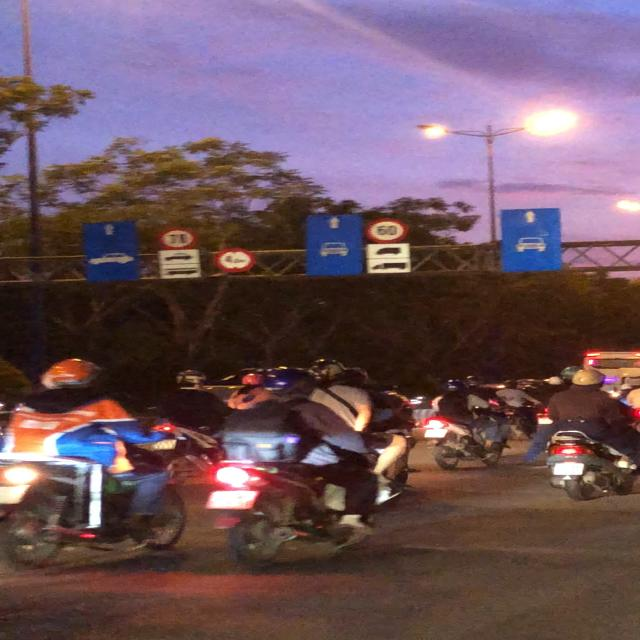Bien bao han che chieu cao: (213, 247, 260, 273)
Bien bao toc do toi da cho phep: (360, 216, 412, 244), (152, 223, 197, 246)
